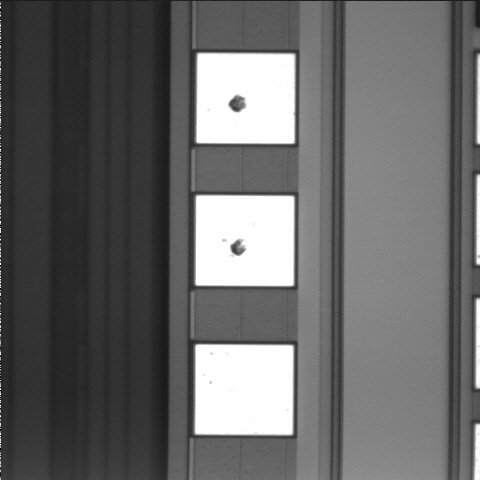pad: (196, 53, 295, 144), (196, 196, 294, 286), (195, 345, 293, 435)
